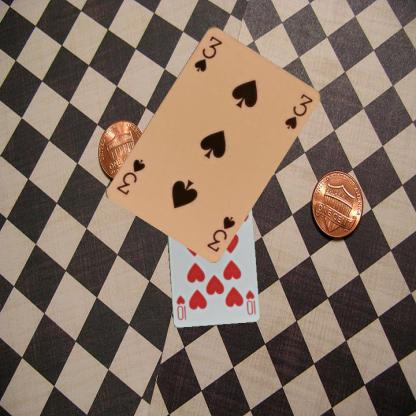10h: (244, 287, 256, 316)
3s: (191, 32, 224, 73), (204, 213, 237, 253)
